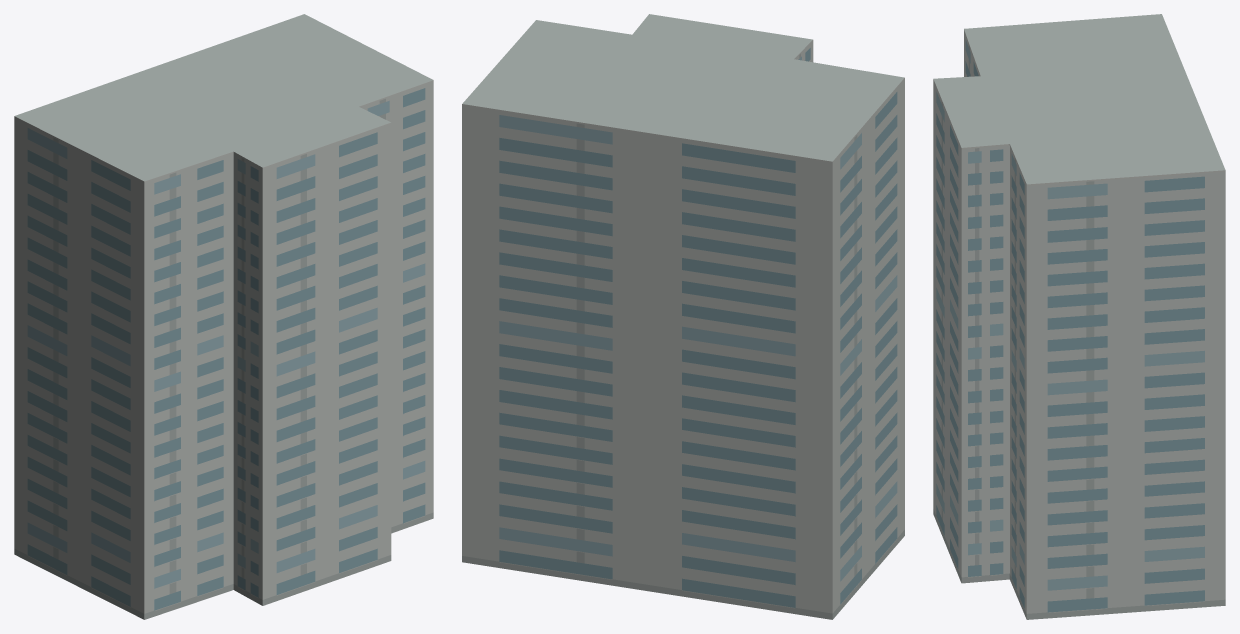
Rendered from residential-8f2dbcbd-24f9-4fd6-aeb2-ad015b6f4cbf.glb.
3 renders of one model, left to right at view 1: azimuth 30°, elevation 25°; view 2: azimuth 150°, elevation 25°; view 3: azimuth 270°, elevation 25°, orthographic. The views are drawn at different scales.
Parts seen in each view (by area): view 1: residential-8f2dbcbd-24f9-4fd6-aeb2-ad015b6f4cbf.tmp; view 2: residential-8f2dbcbd-24f9-4fd6-aeb2-ad015b6f4cbf.tmp; view 3: residential-8f2dbcbd-24f9-4fd6-aeb2-ad015b6f4cbf.tmp.
Part boxes in pixels (x1,y1,x2,y2): residential-8f2dbcbd-24f9-4fd6-aeb2-ad015b6f4cbf.tmp: [14, 14, 433, 619]; residential-8f2dbcbd-24f9-4fd6-aeb2-ad015b6f4cbf.tmp: [462, 14, 904, 619]; residential-8f2dbcbd-24f9-4fd6-aeb2-ad015b6f4cbf.tmp: [933, 14, 1225, 619].
Bounding box in the file's own units: 59.6 × 71 × 43.19.
